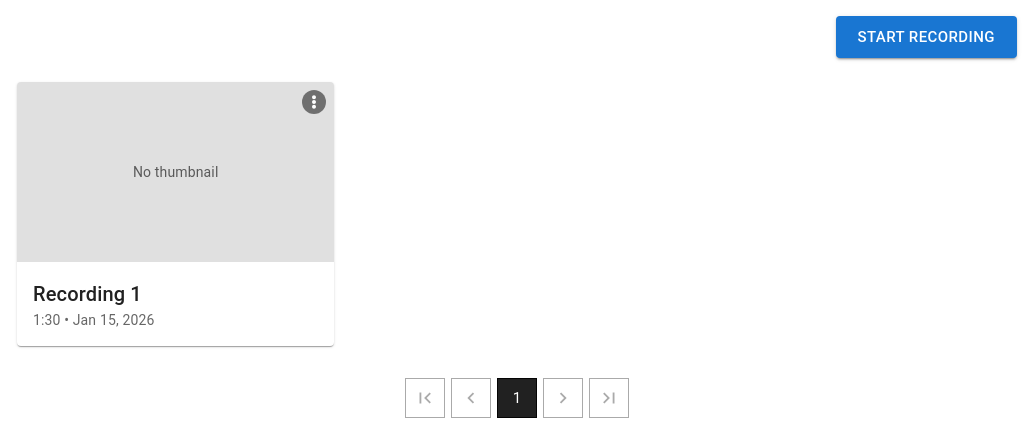
Test: RecordingCard Menu › menu button › clicking menu button does not navigate to recording
Click the button with test id "recording-card-menu-button-rec-1" at (314, 102), box [302, 90, 326, 114]
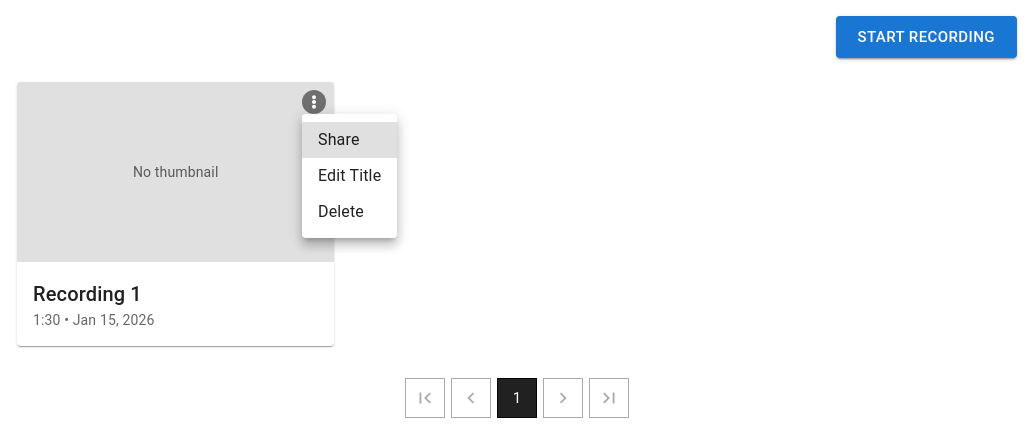
Now the element with test id "recording-card-menu-rec-1" is shown, box [302, 114, 397, 238]
